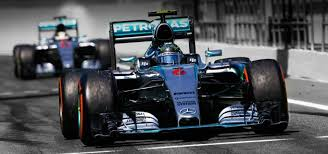FormulaOneCar: (53, 9, 298, 146), (13, 16, 114, 80)
